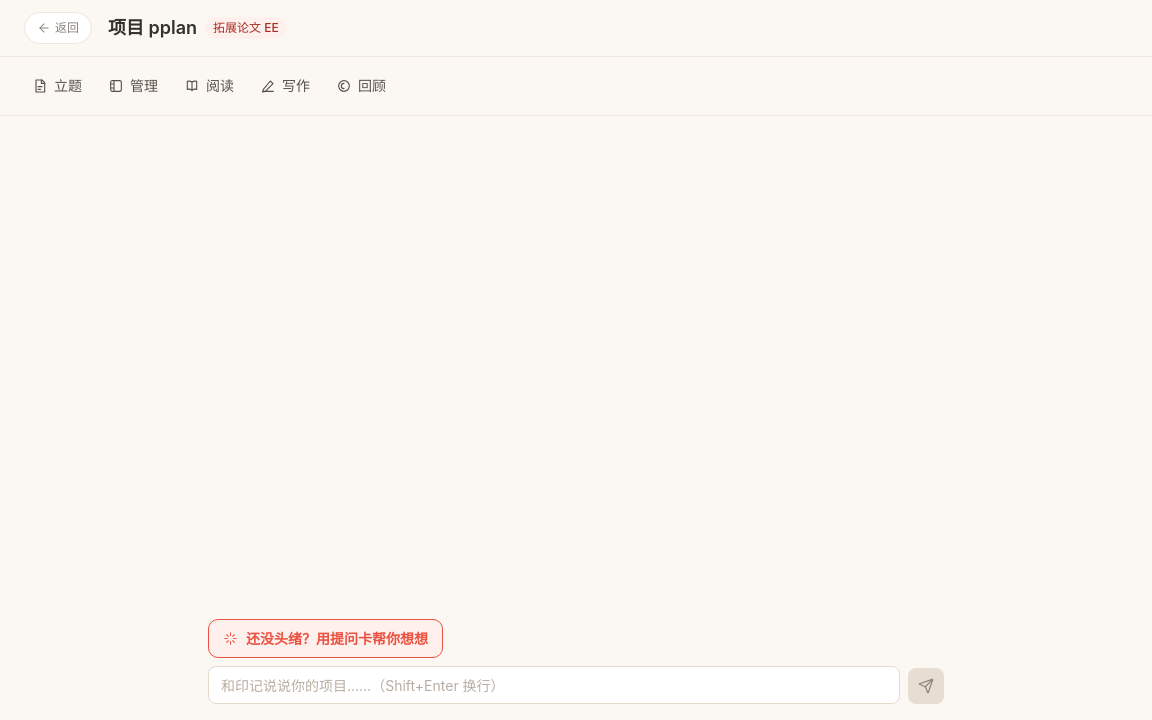
Scenario: WorkspaceContainer › a reply with planGenerated:true appends the 已整理研究计划 hint after 印记's narrate line
Type "帮我理一下研究计划" into the text box with placeholder "和印记说说你的项目……（Shift+Enter 换行）" at (554, 685), box [208, 666, 900, 704]
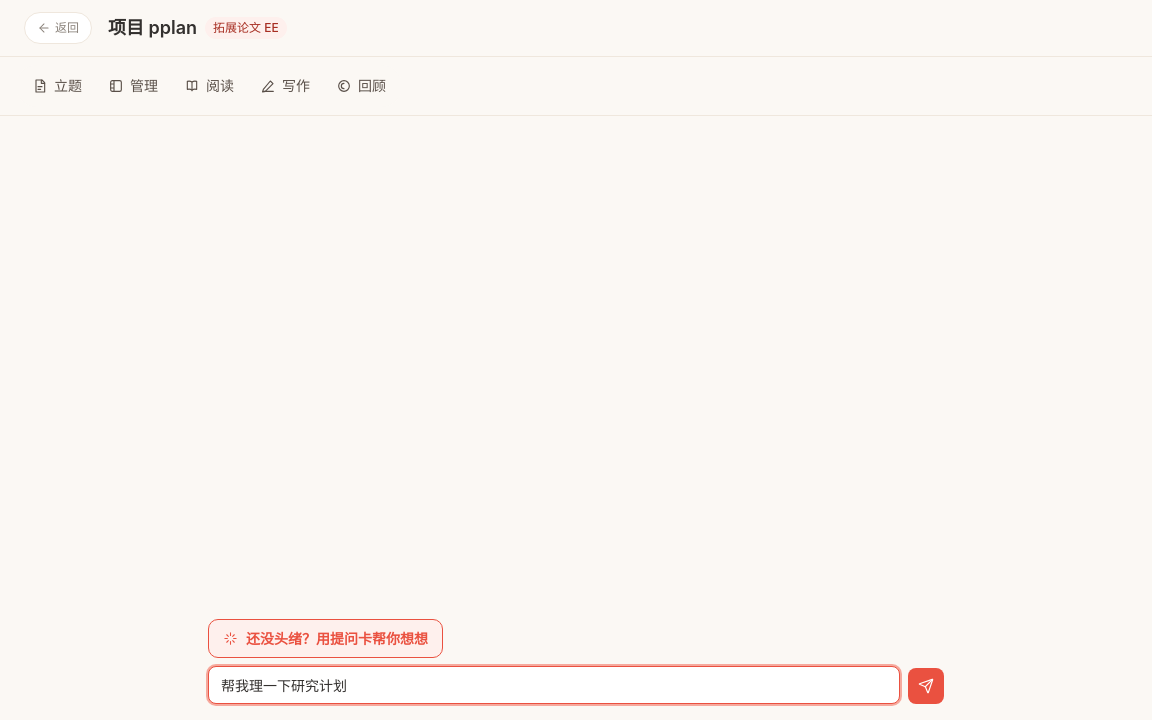
Click the button named "发送" at (926, 686), box [908, 668, 944, 704]
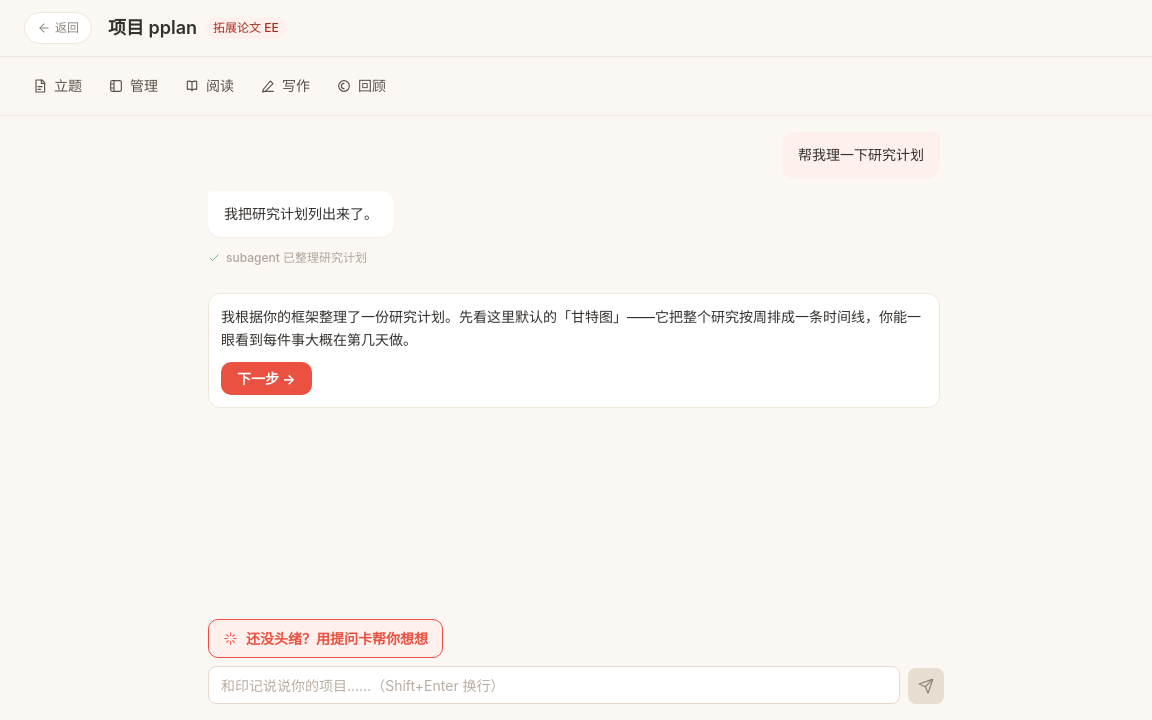
Expected: the text "我把研究计划列出来了。" is shown, [224, 203, 378, 225]
Expected: the text "subagent 已整理研究计划" is shown, [226, 249, 367, 267]
